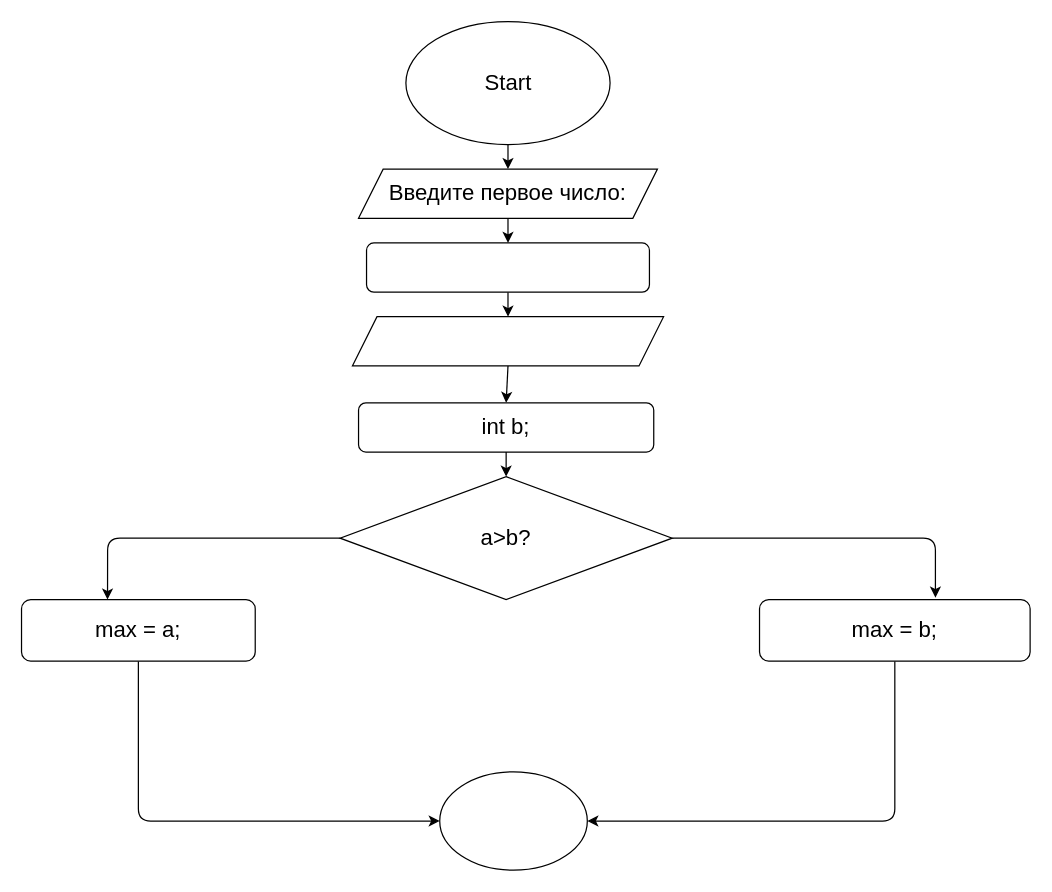
Image size: 1052x892. Some labels were removed from this diagram. The centre of each missing label's shape, as x and y in pixels:
"End" goes at (512,820).
"int a;" goes at (507,267).
"Ведите второе число:" goes at (507,340).
